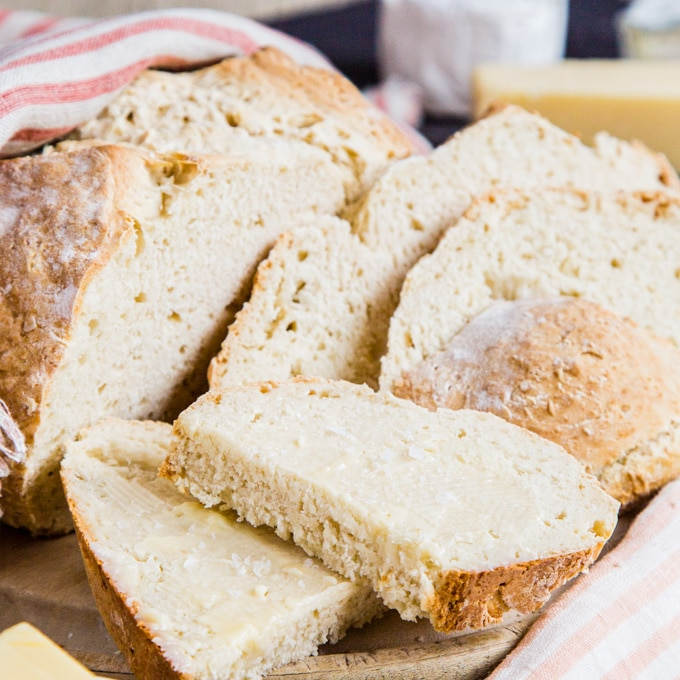Bread: (1, 45, 677, 639)
